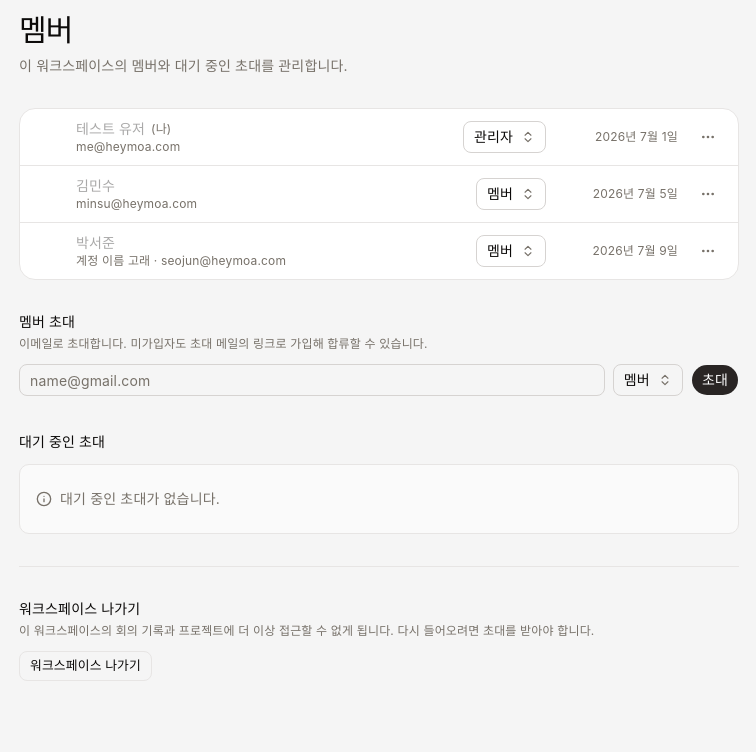
Test: MembersSettings › 이미 멤버(409)면 인라인으로 서버 문구를 보인다
The image size is (756, 752).
Type "junho@heymoa.app" into the field named "초대할 이메일" at [312, 380], box 19,364 -> 605,396
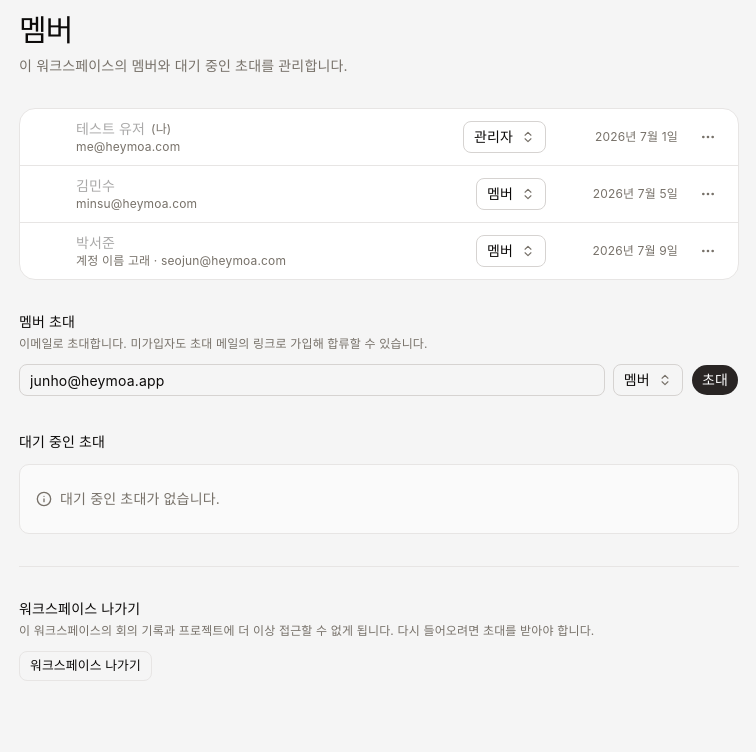
Click the button "초대" at [715, 380], box 691,364 -> 739,396
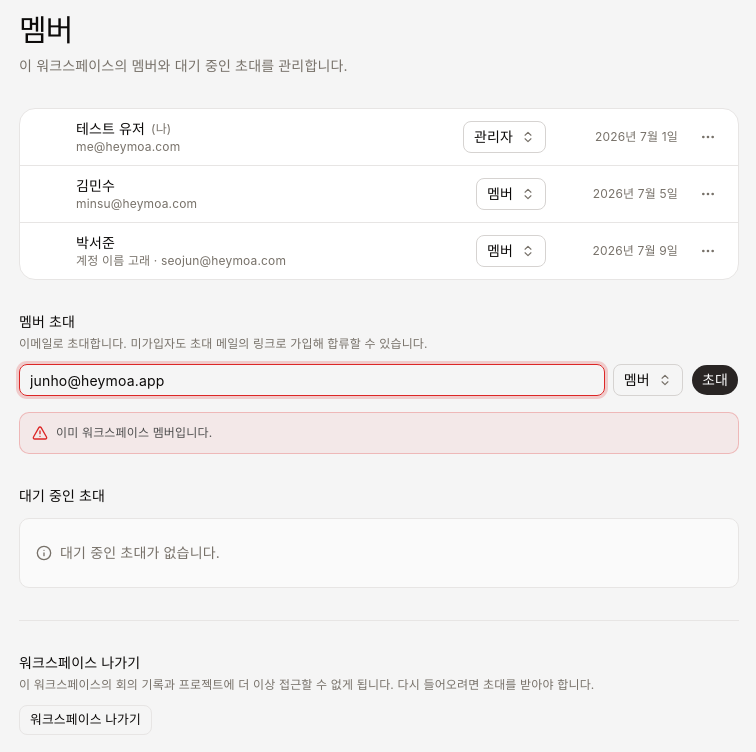
Check: the text "이미 워크스페이스 멤버입니다." is shown, box 56,423 -> 212,442
